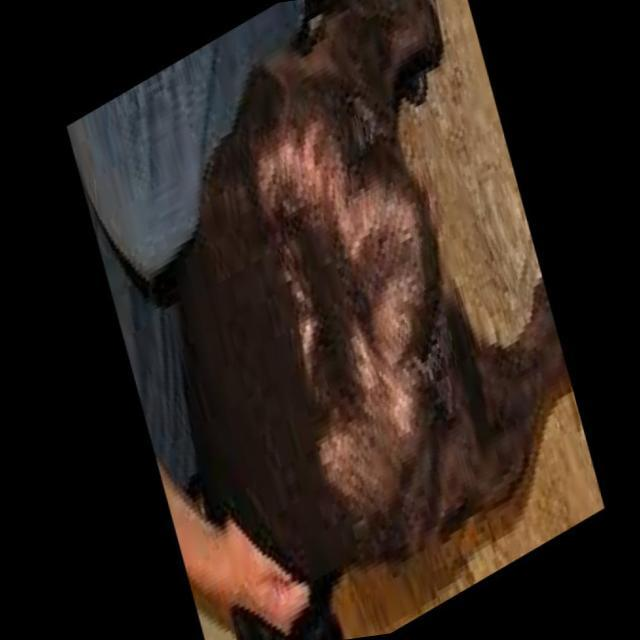allergic dermatitis: (255, 130, 421, 518)
